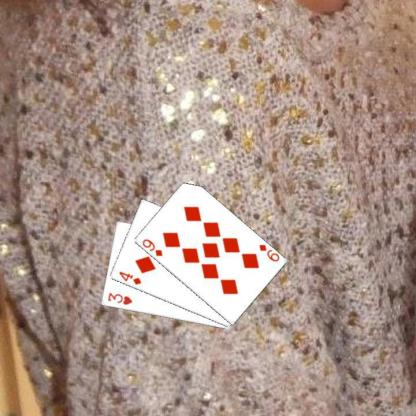3H: (105, 290, 134, 306)
4D: (116, 269, 142, 286)
9D: (139, 236, 164, 258), (256, 241, 280, 263)
